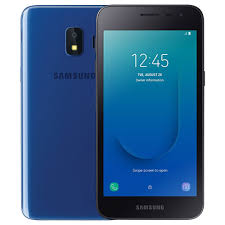samsung: (98, 1, 205, 222), (18, 1, 100, 223)
